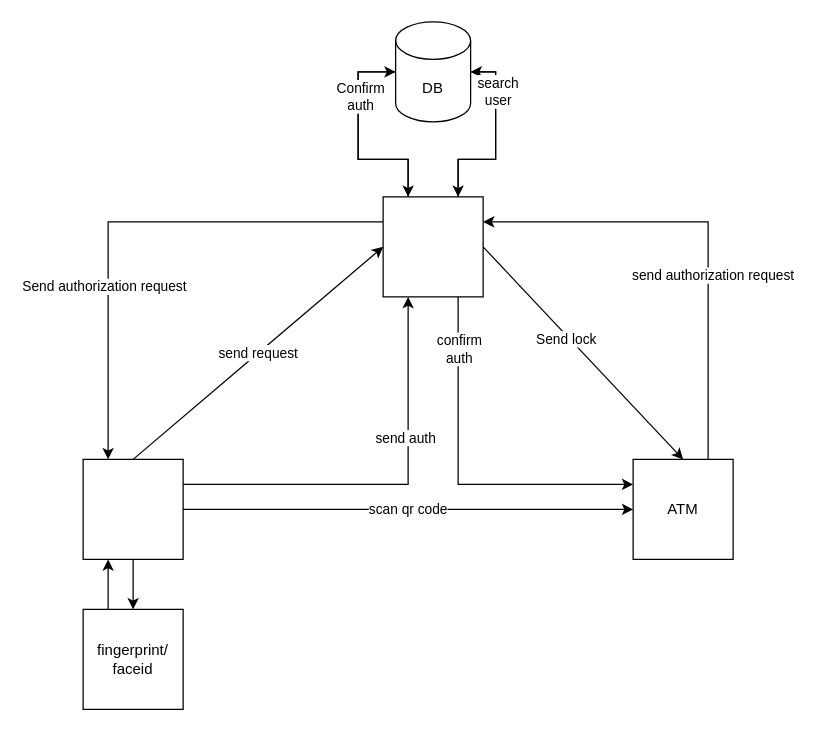
This 815x731 diagram has some shape labels left out. Each missing label, with the centre of its shape:
Phone: point 132,508
Server: point 432,246
